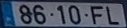0: (67, 4, 81, 25)
1: (55, 4, 66, 24)
6: (32, 3, 46, 24)
8: (17, 3, 32, 24)
F: (89, 5, 103, 25)
L: (105, 5, 119, 25)
